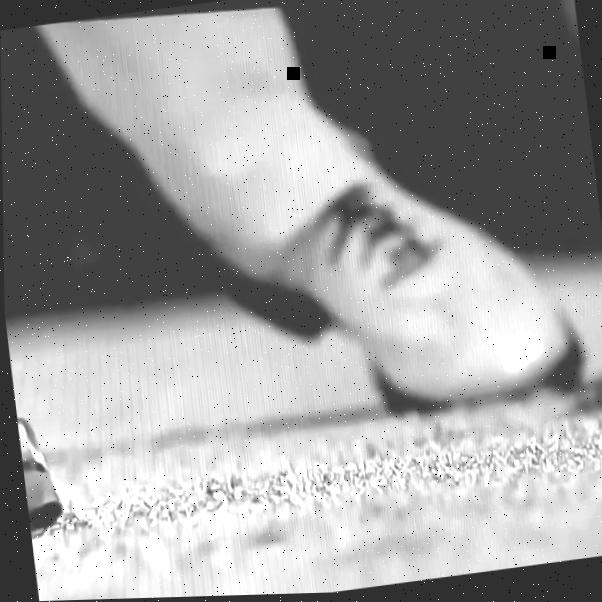ClubHead: (15, 412, 62, 538)
